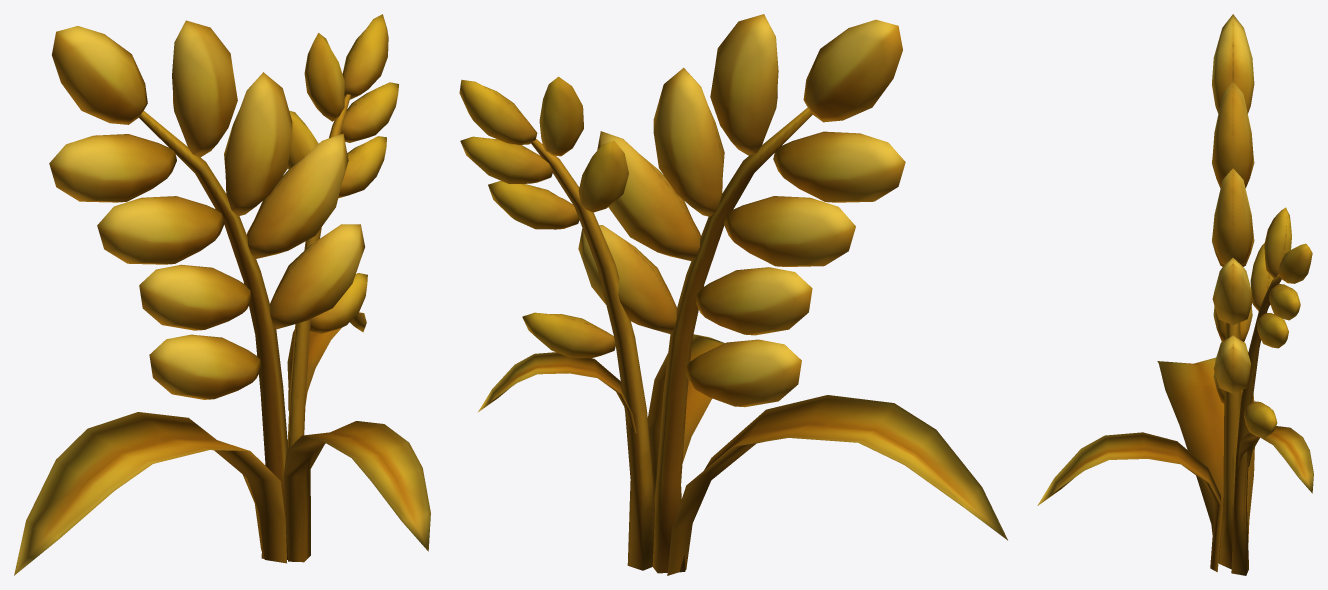
Rendered from Food.FBX.
3 renders of one model, left to right at view 1: azimuth 30°, elevation 25°; view 2: azimuth 150°, elevation 25°; view 3: azimuth 270°, elevation 25°, orthographic. The views are drawn at different scales.
Visible parts, largest first — view 1: liangshi_01; view 2: liangshi_01; view 3: liangshi_01.
Part boxes in pixels (x1,y1,x2,y2): liangshi_01: [14, 14, 430, 575]; liangshi_01: [459, 14, 1007, 575]; liangshi_01: [1037, 14, 1313, 575].
Bounding box in the file's own units: 35.12 × 42.44 × 22.97.
